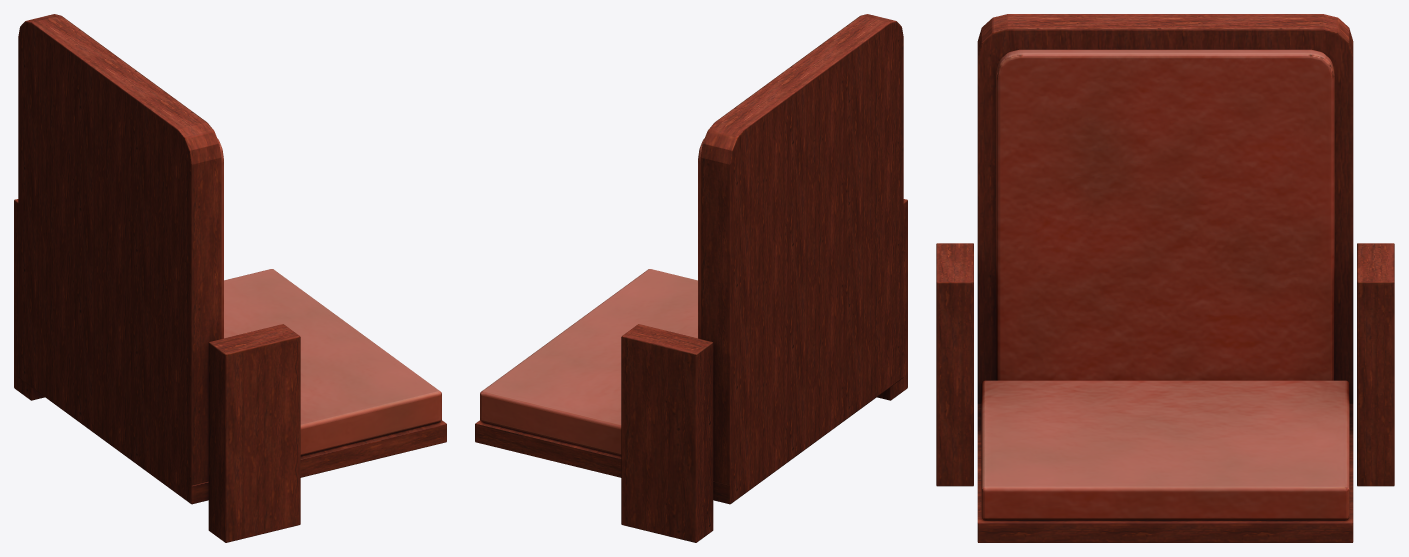
File: deskChairUltra.glb
The picture shows the model from 3 angles, left to right: view 1: azimuth 30°, elevation 25°; view 2: azimuth 150°, elevation 25°; view 3: azimuth 270°, elevation 25°; orthographic projection. The views are drawn at different scales.
Parts seen in each view (by area): view 1: 椅_原型_Baked; view 2: 椅_原型_Baked; view 3: 椅_原型_Baked.
Part boxes in pixels (x1=…): 椅_原型_Baked: x1=14, y1=14, x2=446, y2=542; 椅_原型_Baked: x1=475, y1=14, x2=907, y2=542; 椅_原型_Baked: x1=936, y1=14, x2=1394, y2=542.
Bounding box in the file's own units: 0.85 × 1.25 × 1.22.
Materials: 1 (1 with a texture image).
